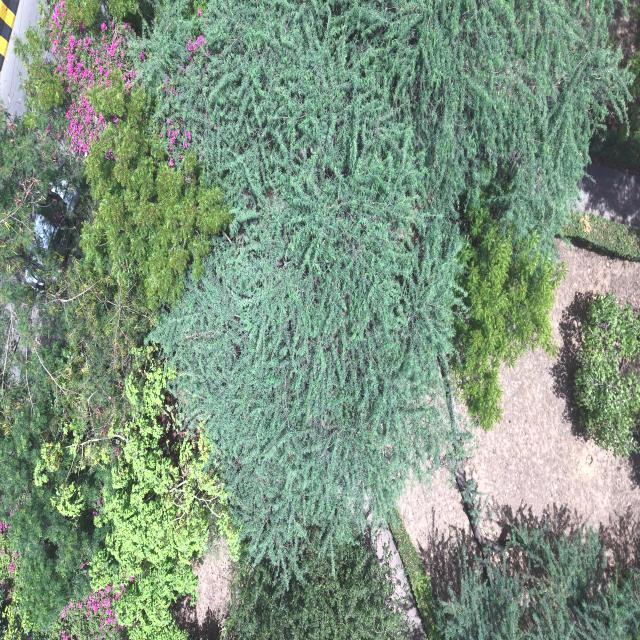DRY_AREA: (466, 242, 639, 539), (466, 243, 639, 539), (466, 243, 639, 538), (173, 539, 232, 638), (173, 540, 232, 639), (374, 529, 424, 639), (0, 0, 37, 116), (577, 165, 639, 228), (193, 540, 232, 623), (609, 0, 639, 58)
VEGETATION_TREE: (0, 0, 631, 639), (142, 0, 629, 572), (152, 3, 457, 573), (141, 0, 630, 249), (0, 3, 186, 637), (152, 210, 455, 571), (0, 112, 146, 636), (0, 162, 149, 631), (20, 3, 231, 310), (0, 115, 120, 628), (0, 114, 91, 637), (90, 348, 235, 639), (82, 89, 231, 309), (452, 207, 563, 429), (438, 523, 639, 639), (225, 539, 405, 639), (25, 0, 134, 155), (574, 294, 639, 456), (589, 2, 639, 173), (388, 510, 438, 639), (50, 585, 126, 639), (563, 212, 639, 261), (0, 520, 24, 638), (628, 30, 639, 141), (108, 0, 152, 26)
